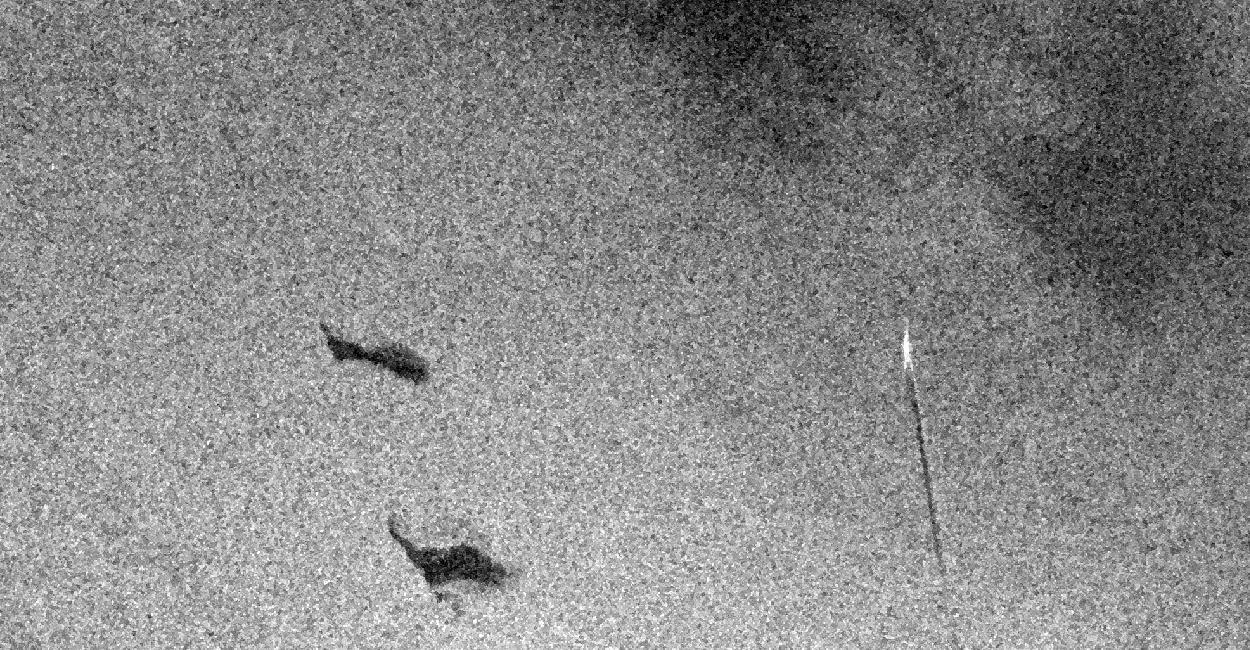Look-alike: (604, 0, 846, 108)
Oil Spill: (386, 514, 516, 594), (900, 372, 944, 568), (319, 322, 430, 386), (432, 590, 450, 604)
